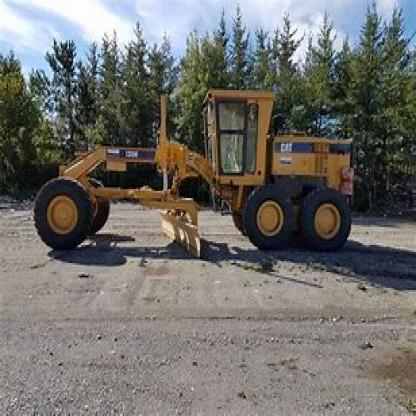bull_dozer/loader/grader: (26, 74, 364, 261)
